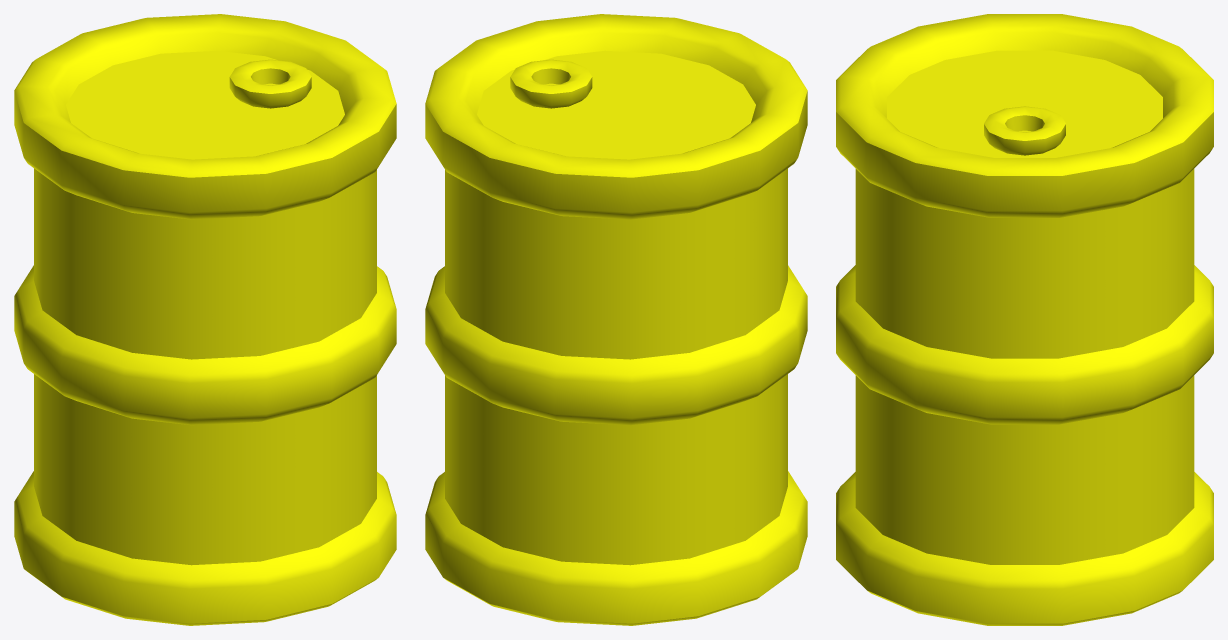
Rendered from kaykit-fuel-c-barrel.glb.
The picture shows the model from 3 angles, left to right: view 1: azimuth 30°, elevation 25°; view 2: azimuth 150°, elevation 25°; view 3: azimuth 270°, elevation 25°; orthographic projection.
Visible parts, largest first — view 1: Fuel_C_Barrel; view 2: Fuel_C_Barrel; view 3: Fuel_C_Barrel.
Part boxes in pixels (x1,y1,x2,y2): Fuel_C_Barrel: [14, 14, 396, 625]; Fuel_C_Barrel: [425, 14, 807, 625]; Fuel_C_Barrel: [836, 14, 1213, 625].
Bounding box in the file's own units: 0.7501 × 1.01 × 0.7501.
